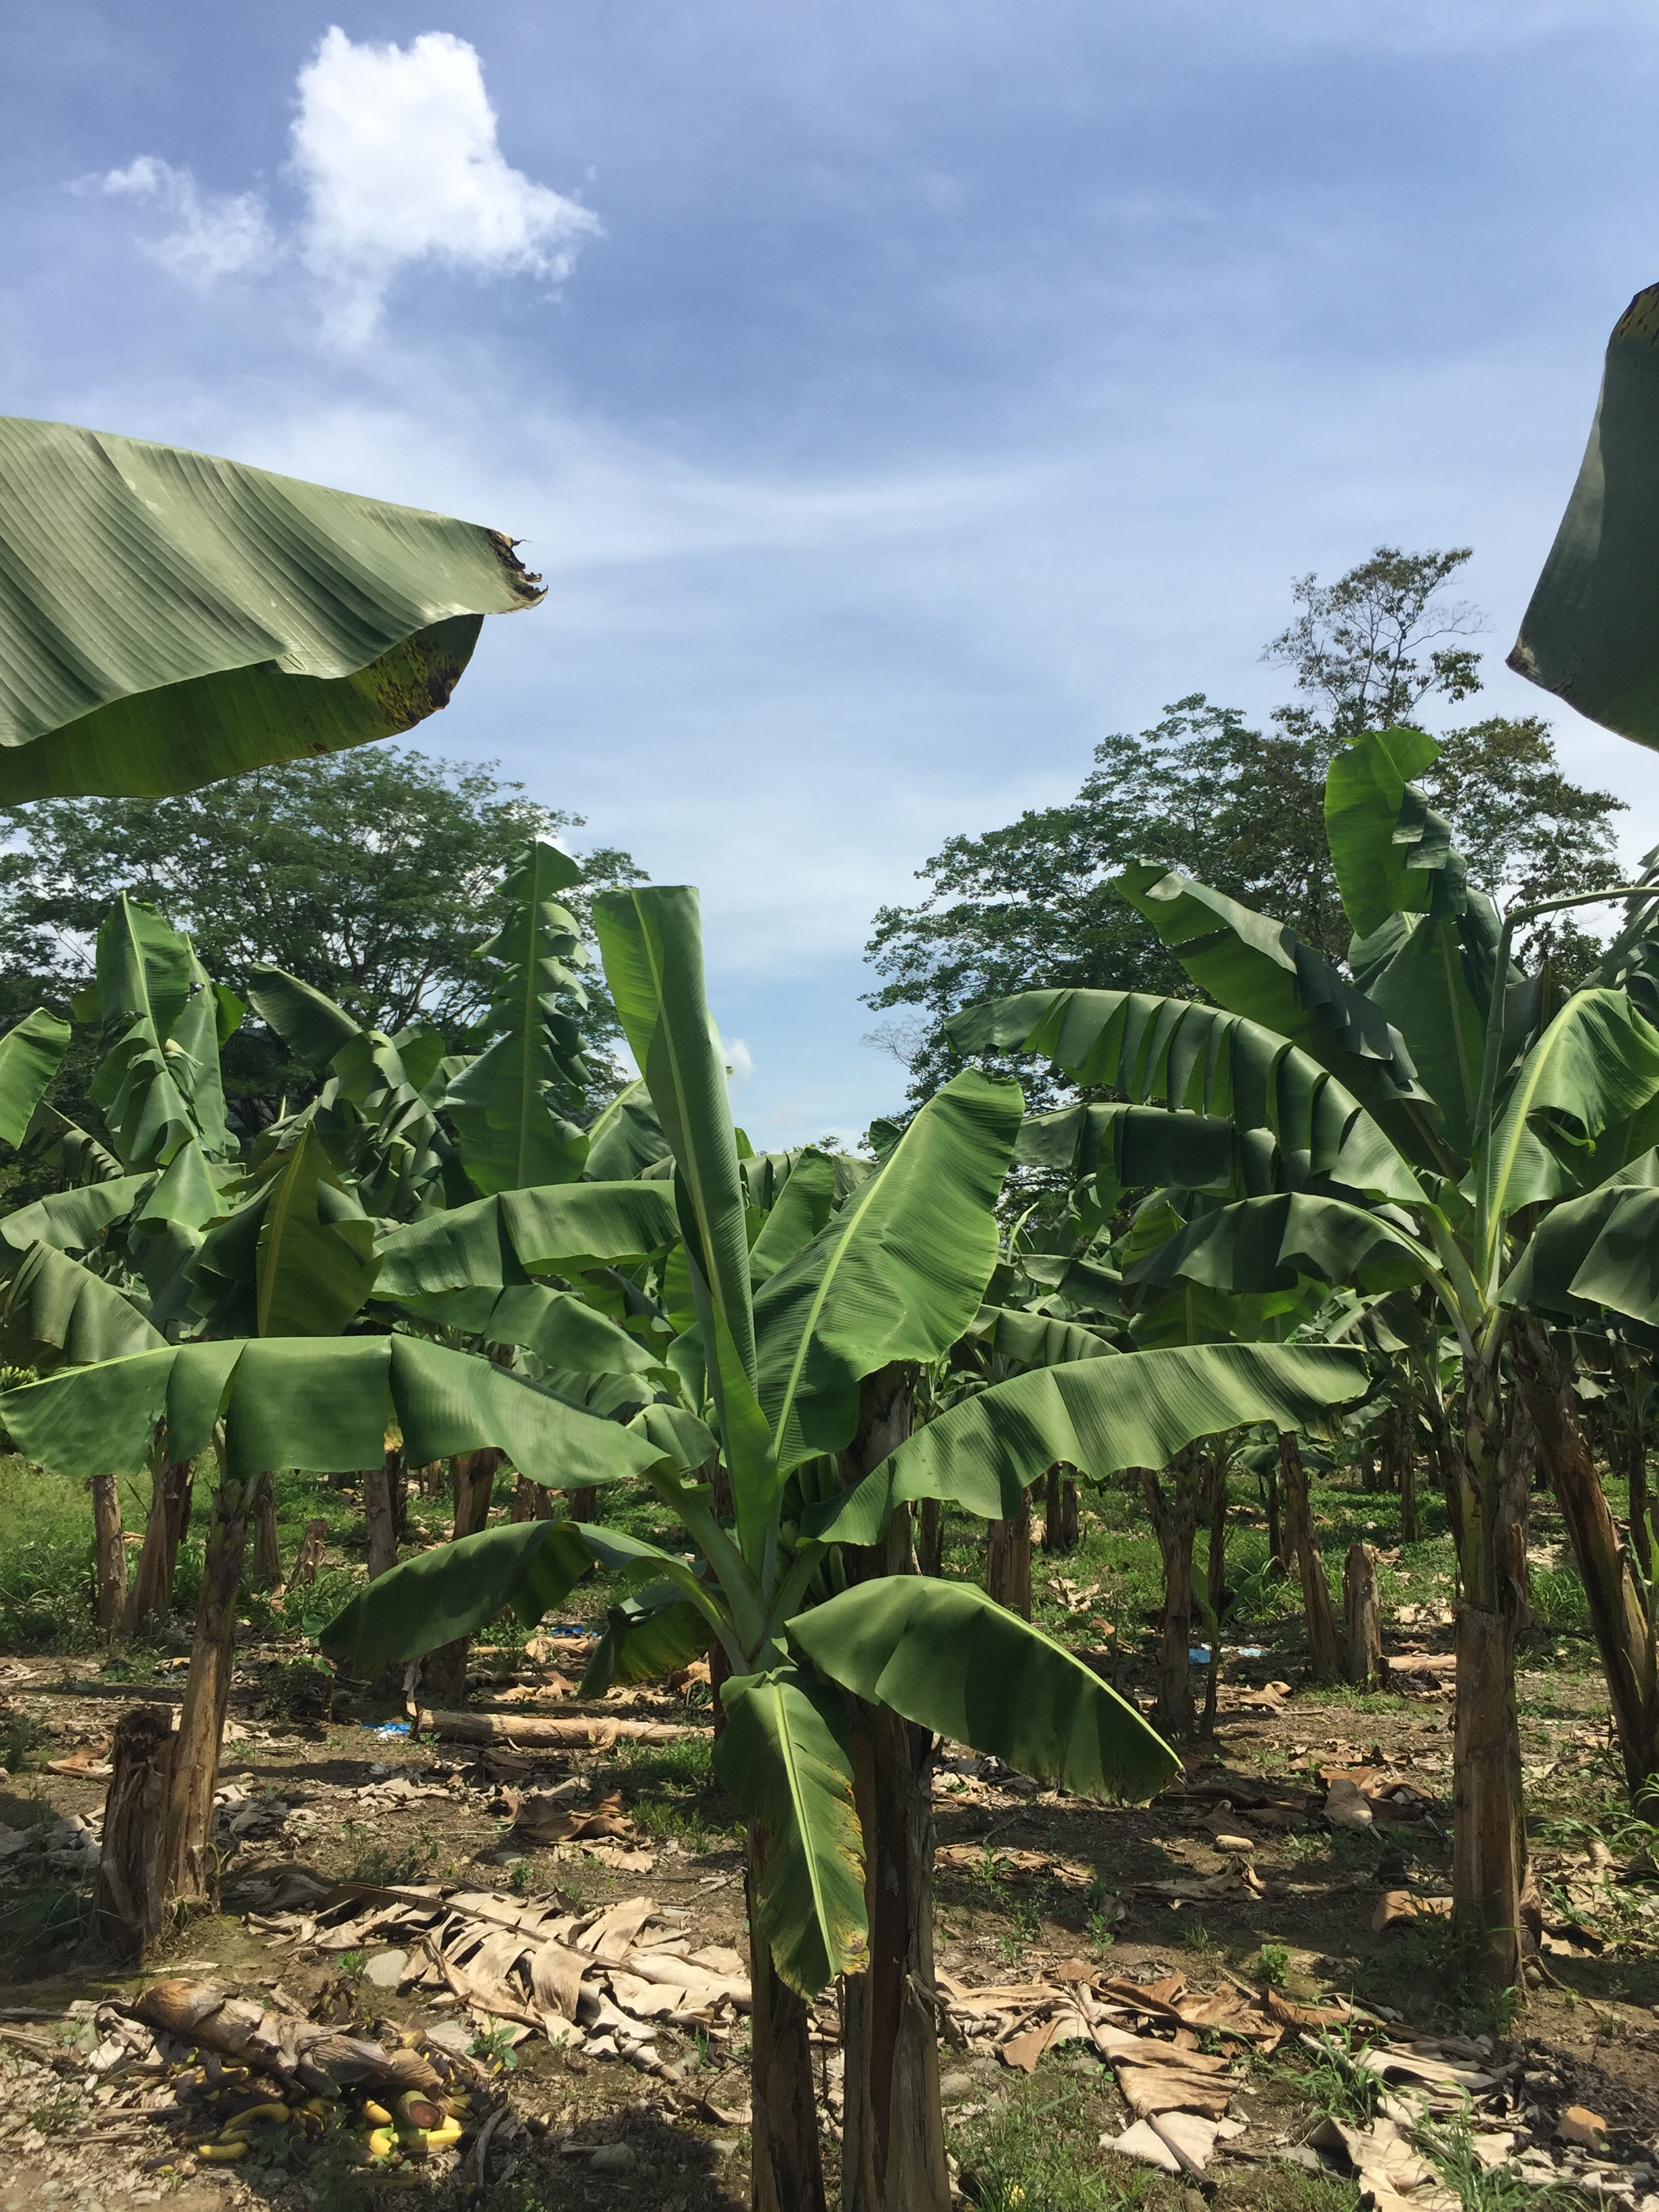candleleafs: (1476, 916, 1516, 1287)
